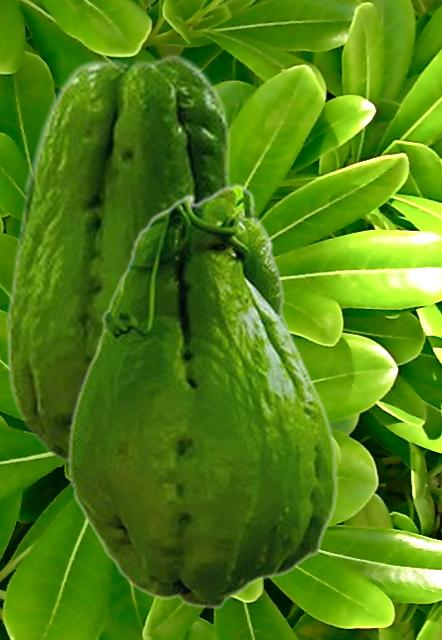sayote: (67, 183, 338, 609), (6, 53, 236, 467)
